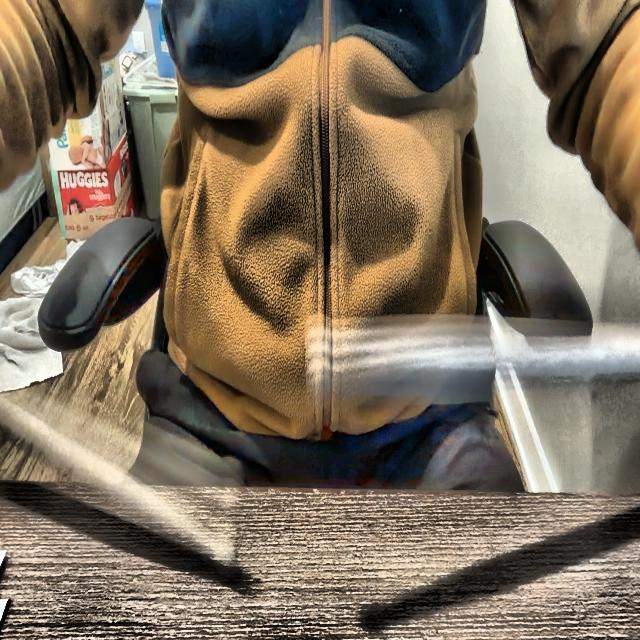Drumstick-Heads: (303, 322, 333, 401), (216, 511, 243, 580)
